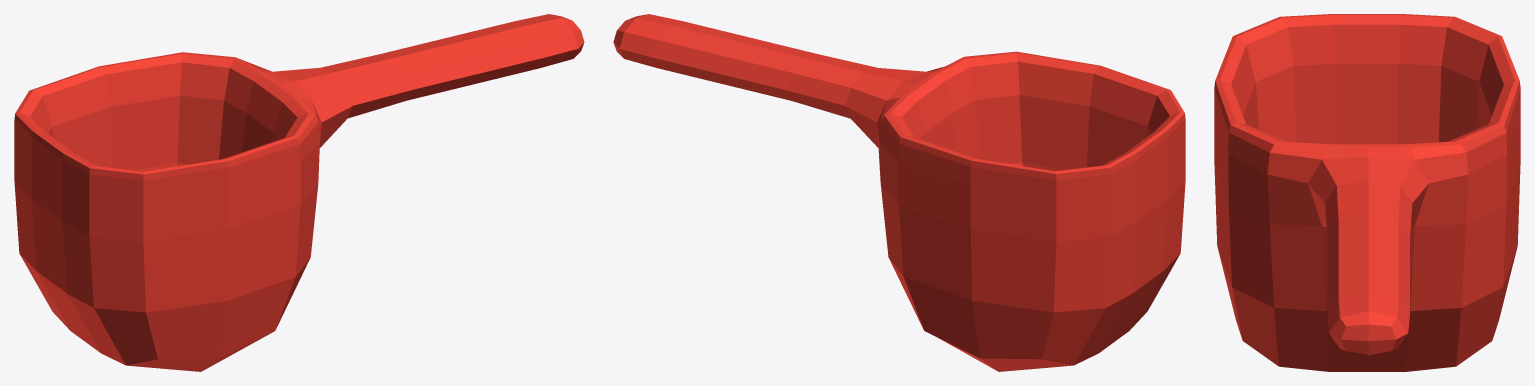
Rendered from gayung.fbx.
The picture shows the model from 3 angles, left to right: view 1: azimuth 30°, elevation 25°; view 2: azimuth 150°, elevation 25°; view 3: azimuth 270°, elevation 25°; orthographic projection. The views are drawn at different scales.
Visible parts, largest first — view 1: Cube.041; view 2: Cube.041; view 3: Cube.041.
Boxes of the visible parts, x1,y1,x2,y2 form: Cube.041: [14, 14, 584, 371]; Cube.041: [613, 14, 1185, 371]; Cube.041: [1214, 14, 1520, 371].
Bounding box in the file's own units: 60.13 × 25.61 × 25.64.
